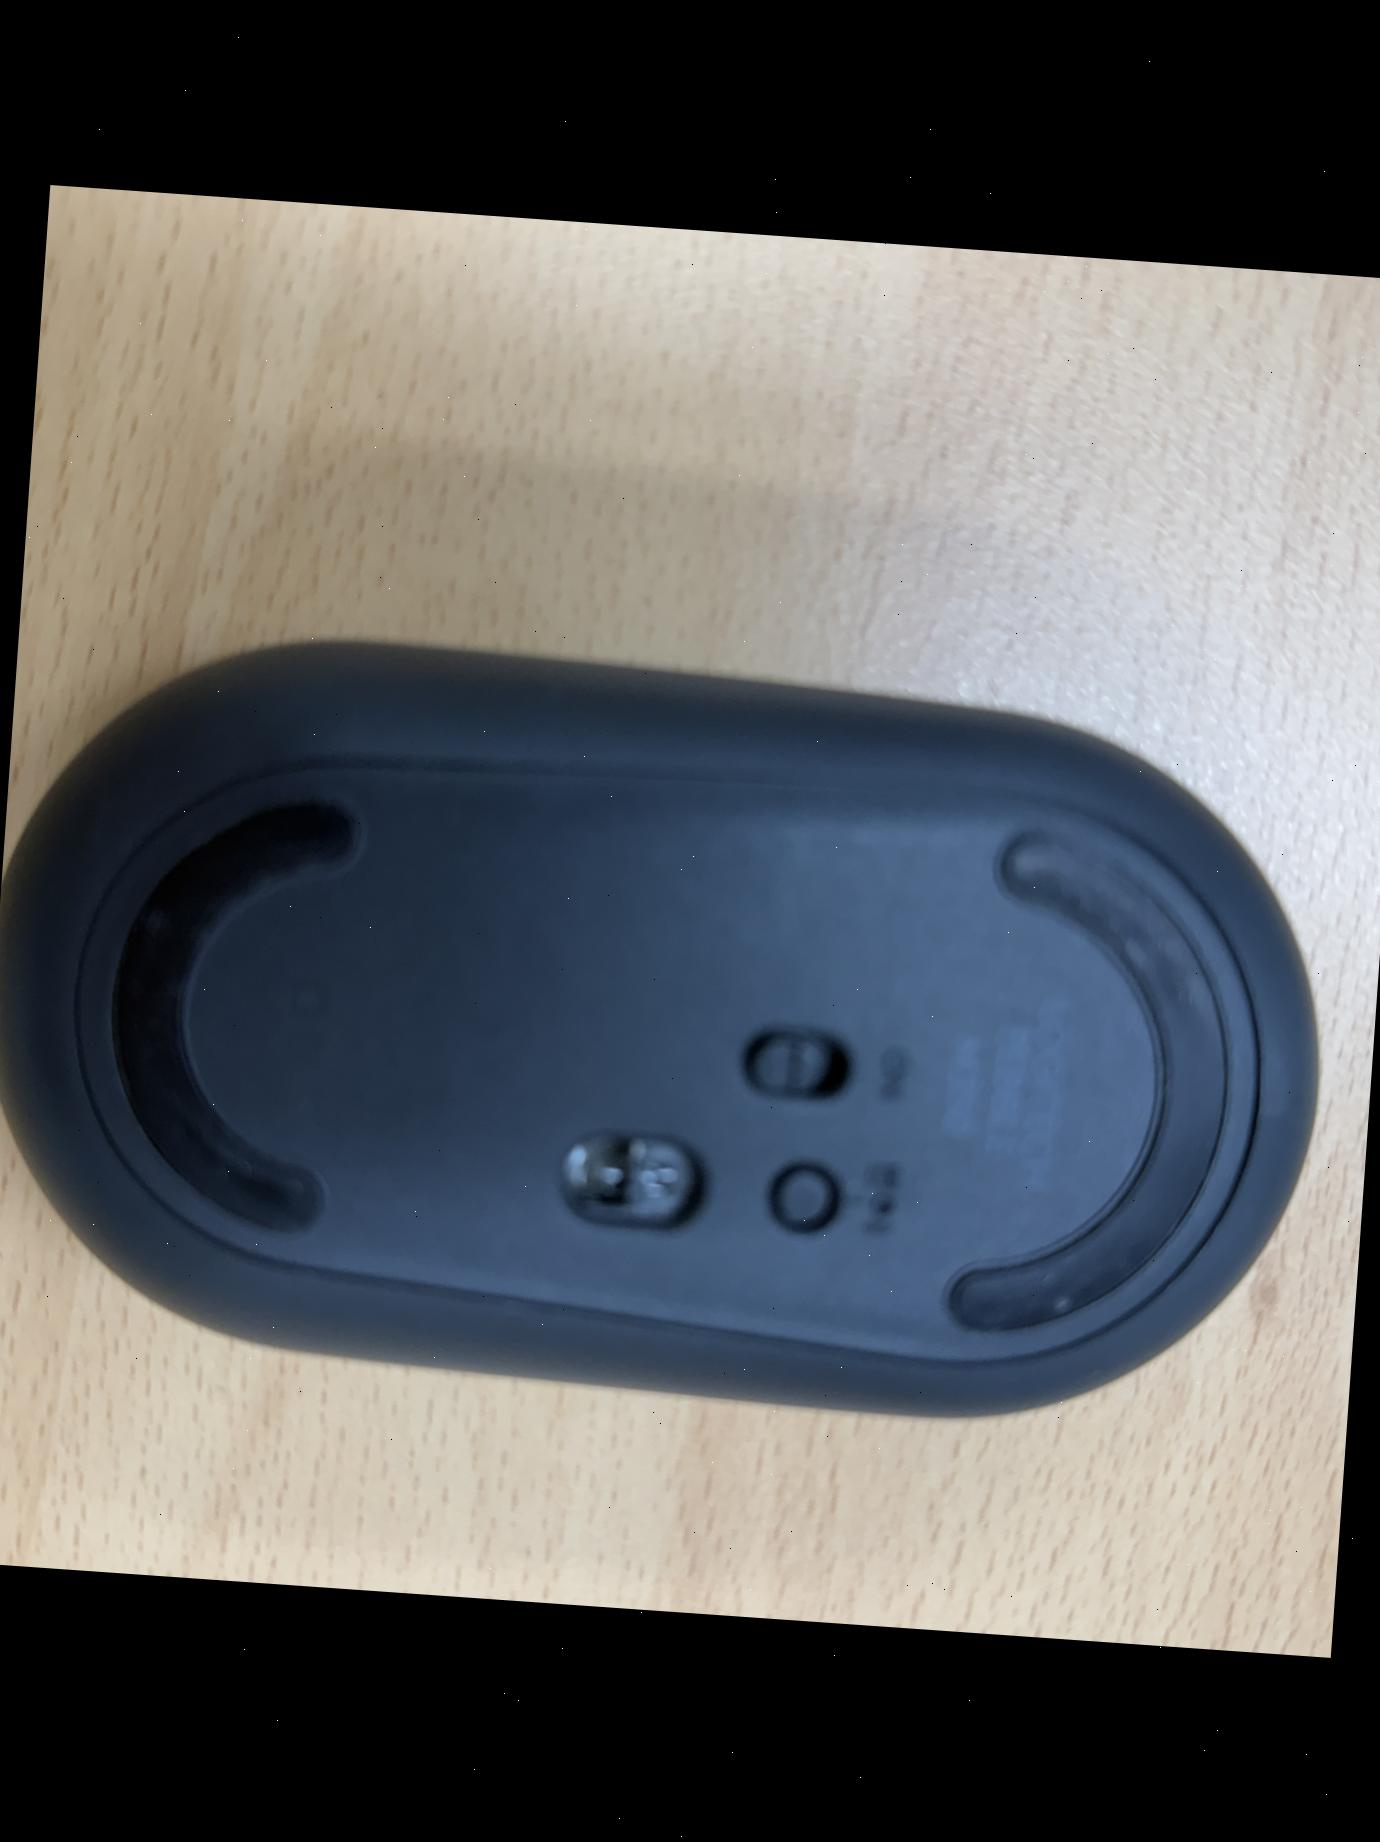back: (0, 616, 1350, 1443)
